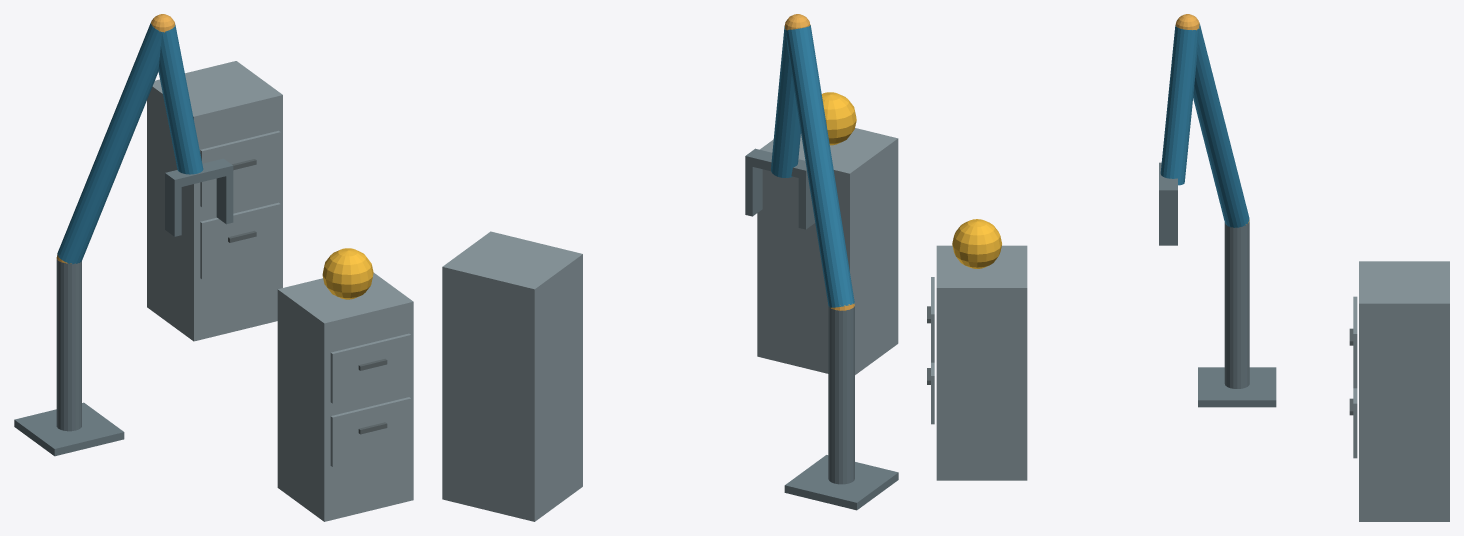
The picture shows the model from 3 angles, left to right: view 1: azimuth 30°, elevation 25°; view 2: azimuth 150°, elevation 25°; view 3: azimuth 270°, elevation 25°; orthographic projection. The views are drawn at different scales.
Parts seen in each view (by area): view 1: cabinet_1 body, cabinet_2 body, moving link 1, cabinet_2 drawer front, fixed post, cabinet_1 drawer front.001, cabinet_1 drawer front, cabinet_2 drawer front.001, moving link 2, pedestal, ball ball_1, gripper bridge (+2 smaller); view 2: cabinet_2 body, cabinet_1 body, moving link 1, fixed post, pedestal, moving link 2, ball ball_1, gripper finger 1, gripper bridge, gripper finger -1; view 3: cabinet_2 body, cabinet_1 body, moving link 1, fixed post, moving link 2, pedestal, ball ball_1, gripper finger 1.
Boxes of the visible parts, x1,y1,x2,y2 form: cabinet_1 body: [277, 273, 413, 521]; cabinet_2 body: [147, 61, 282, 341]; moving link 1: [57, 22, 161, 264]; cabinet_2 drawer front: [200, 202, 280, 279]; fixed post: [56, 259, 81, 431]; cabinet_1 drawer front.001: [330, 333, 411, 403]; cabinet_1 drawer front: [330, 397, 411, 466]; cabinet_2 drawer front.001: [200, 130, 280, 207]; moving link 2: [158, 25, 203, 174]; pedestal: [14, 402, 124, 456]; ball ball_1: [322, 248, 373, 299]; gripper bridge: [165, 158, 233, 188]; cabinet_2 body: [442, 231, 582, 521]; cabinet_1 body: [757, 128, 898, 374]; moving link 1: [786, 25, 854, 307]; fixed post: [828, 304, 854, 484]; pedestal: [784, 455, 898, 510]; moving link 2: [771, 26, 800, 177]; ball ball_1: [821, 92, 856, 145]; gripper finger 1: [745, 165, 762, 216]; gripper bridge: [745, 148, 807, 179]; gripper finger -1: [798, 178, 815, 229]; cabinet_2 body: [1359, 261, 1449, 521]; cabinet_1 body: [936, 245, 1027, 480]; moving link 1: [1193, 24, 1249, 227]; fixed post: [1224, 221, 1249, 388]; moving link 2: [1160, 25, 1198, 185]; pedestal: [1198, 367, 1276, 407]; ball ball_1: [952, 219, 1001, 268]; gripper finger 1: [1159, 199, 1177, 245].
Size of the model in its own units: 1.12 by 1.44 by 1.67.
